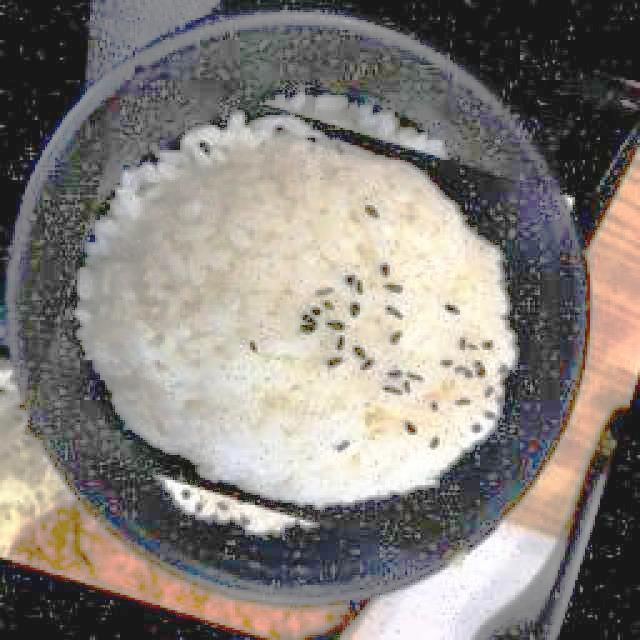rice: (86, 122, 511, 499)
